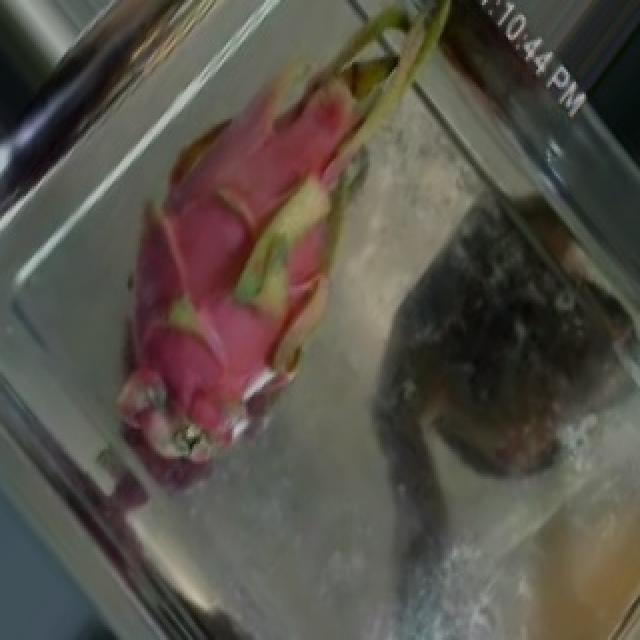fruit: (36, 0, 454, 476)
